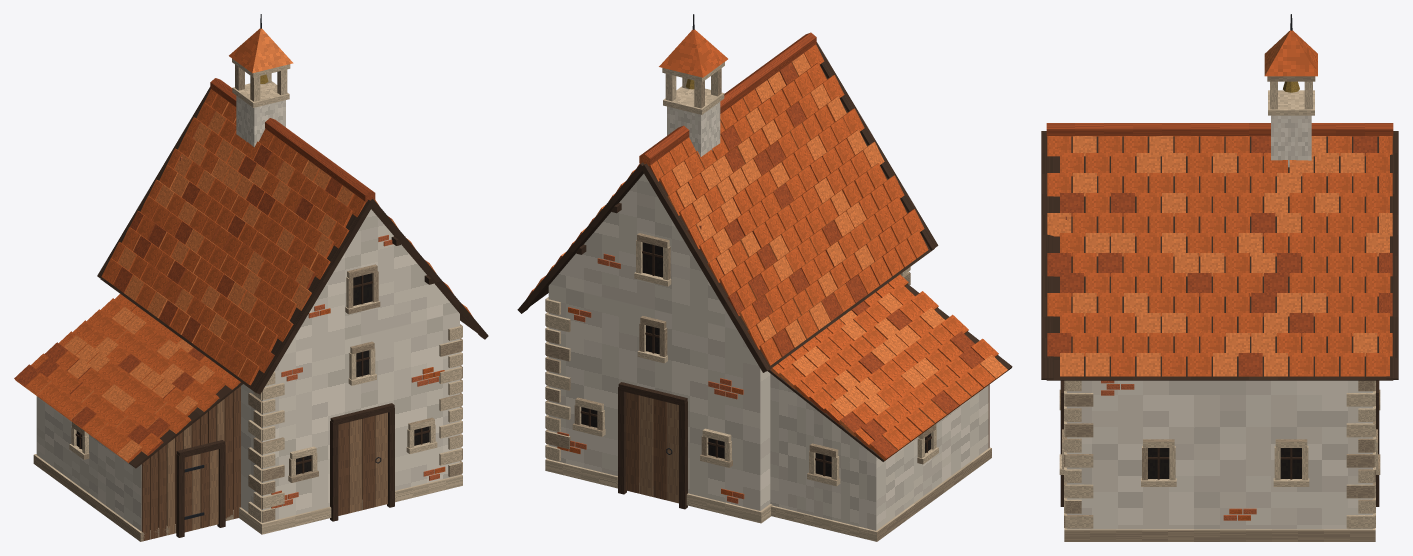
The model's file is house_belfry.glb.
3 renders of one model, left to right at view 1: azimuth 30°, elevation 25°; view 2: azimuth 150°, elevation 25°; view 3: azimuth 270°, elevation 25°, orthographic. The views are drawn at different scales.
Visible parts, largest first — view 1: house_belfry; view 2: house_belfry; view 3: house_belfry.
Boxes of the visible parts, bbox=[...] form: house_belfry: bbox=[14, 14, 488, 541]; house_belfry: bbox=[517, 14, 1012, 541]; house_belfry: bbox=[1041, 14, 1398, 541].
Size of the model in its own units: 8.36 by 10.29 by 7.
Materials: 1 (1 with a texture image).
